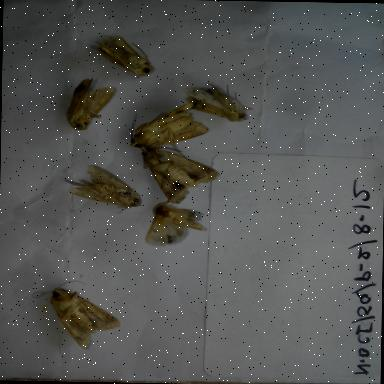abw: (24, 272, 126, 356), (130, 143, 224, 209), (118, 98, 214, 158), (57, 157, 146, 218), (136, 194, 216, 253), (82, 30, 169, 84), (51, 73, 122, 138), (176, 76, 256, 129)
